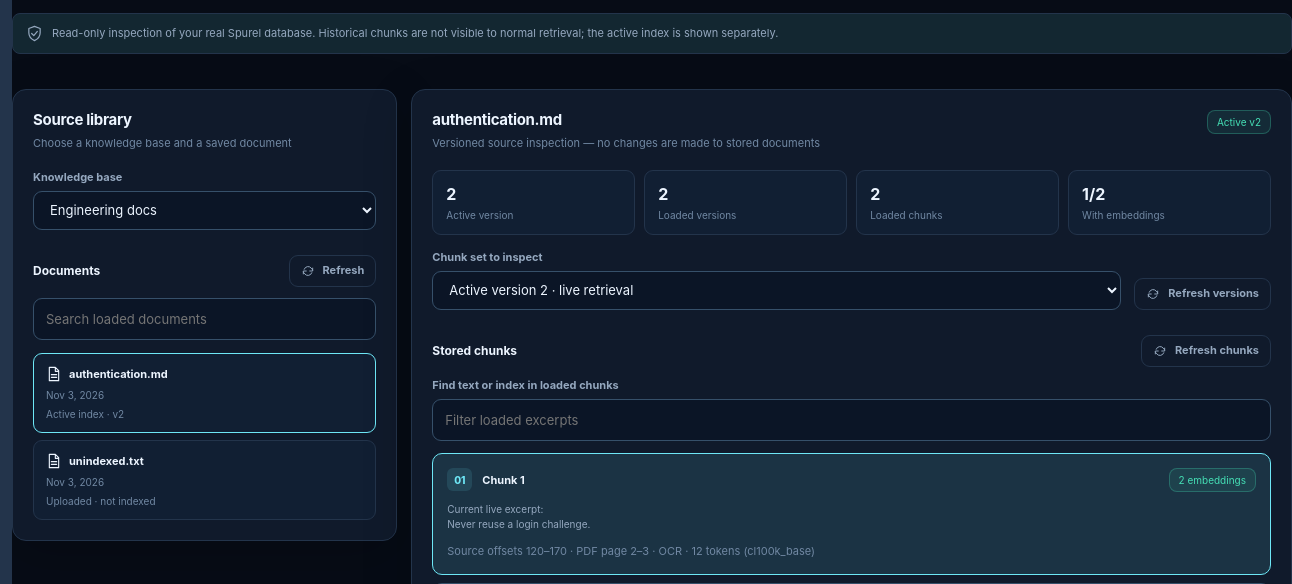
Test: live chunk inspector › filters only loaded excerpts and keeps their original source IDs
The image size is (1292, 584).
In the search field labelled "Find text or index in loaded chunks": (852, 420) [432, 398, 1271, 440], type "Next chunk"
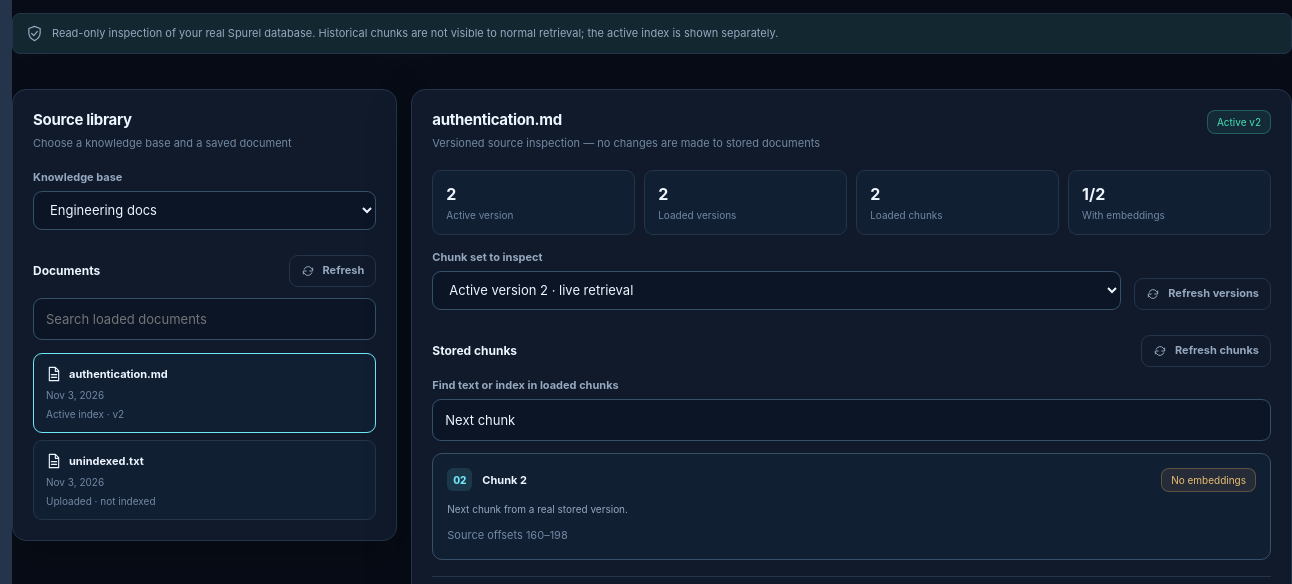
Expected: the text "Next chunk from a real stored version." is shown, [447, 502, 628, 514]
Expected: the number of buttons with class "chunk-entry" is 1
Click the button with class "chunk-entry": (501, 480) [432, 452, 1271, 560]
(page scrolled)
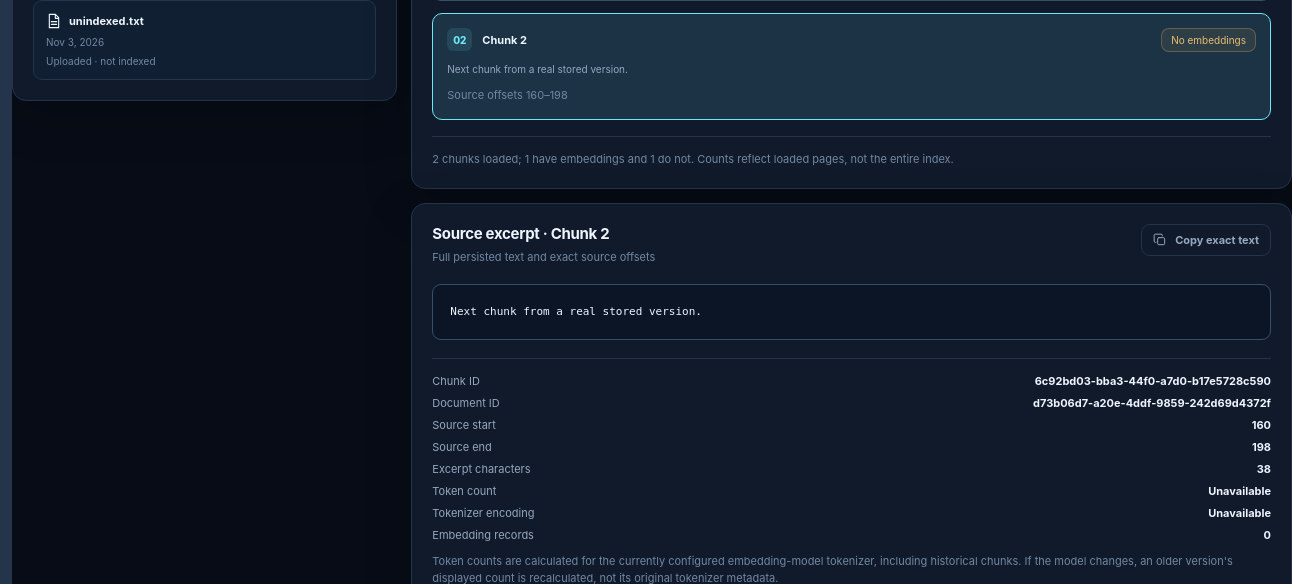
Expected: the text "6c92bd03-bba3-44f0-a7d0-b17e5728c590" is shown, [1035, 374, 1271, 388]
